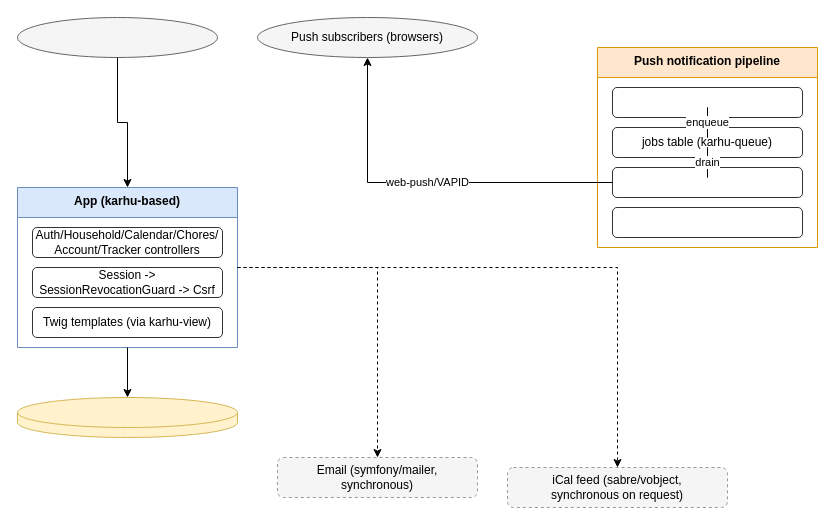
Image size: 835x525. Some labels were removed from this diagram. The shapes that lost their labels are listed below. From the top down, each one's centre as x and y in pixels, then its label:
(117,37): Client / Browser
(707,102): push:scan (producer, host cron 5min)
(707,182): push:worker (consumer, container)
(707,222): PushSender (web-push, VAPID)
(127,417): Postgres (raw SQL via karhu-db, no ORM)
